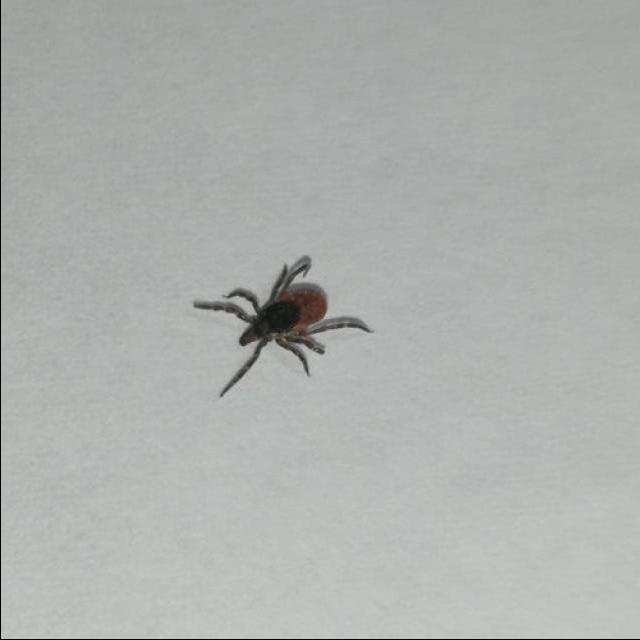Ixodes Ricinus-F: (192, 257, 374, 399)
